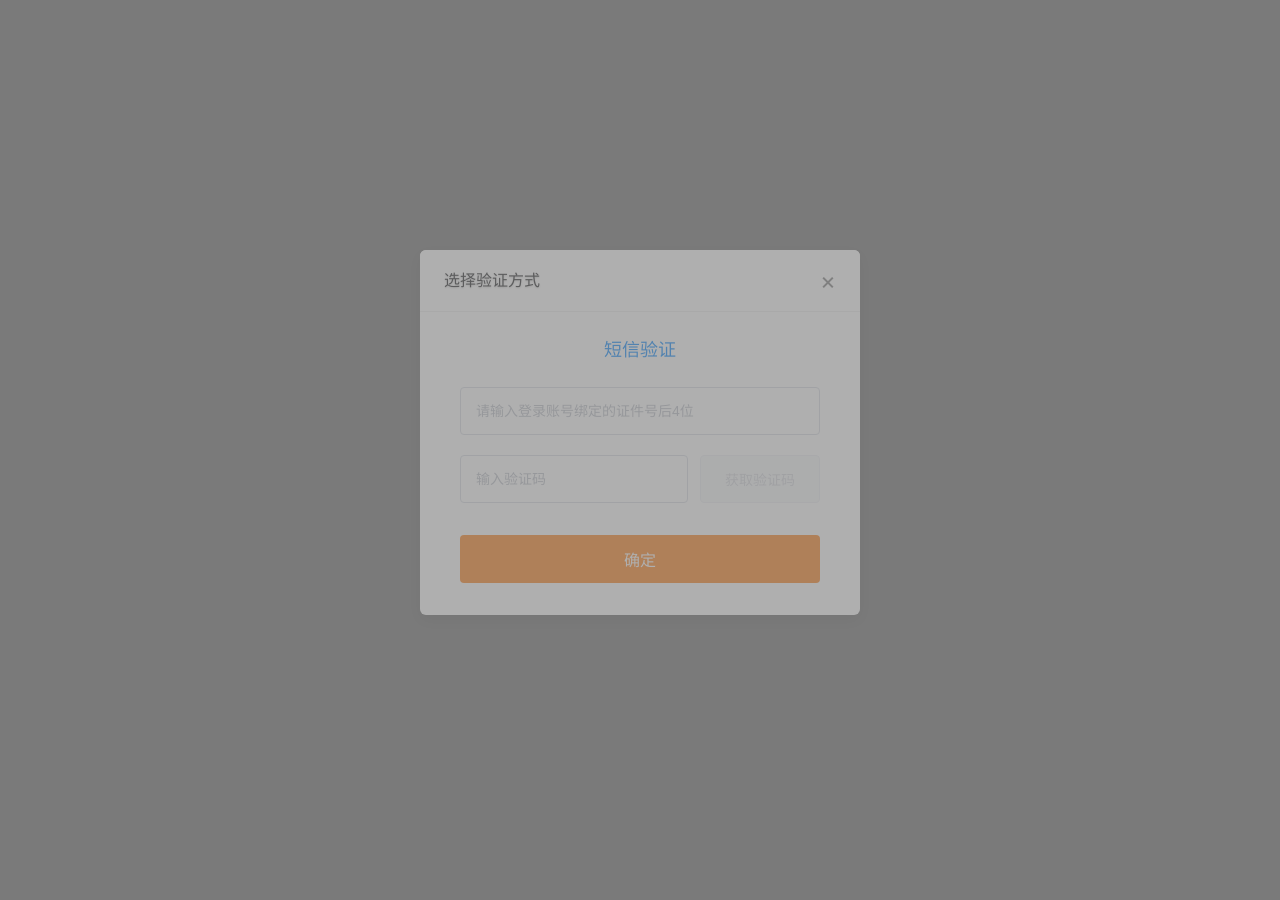
Test: SmsVerificationModal - 登录短信验证 › 应该显示倒计时按钮文本
Type "1234" into the field with placeholder "请输入登录账号绑定的证件号后4位" at {"x": 640, "y": 418}, box x1=460 y1=394 x2=820 y2=442
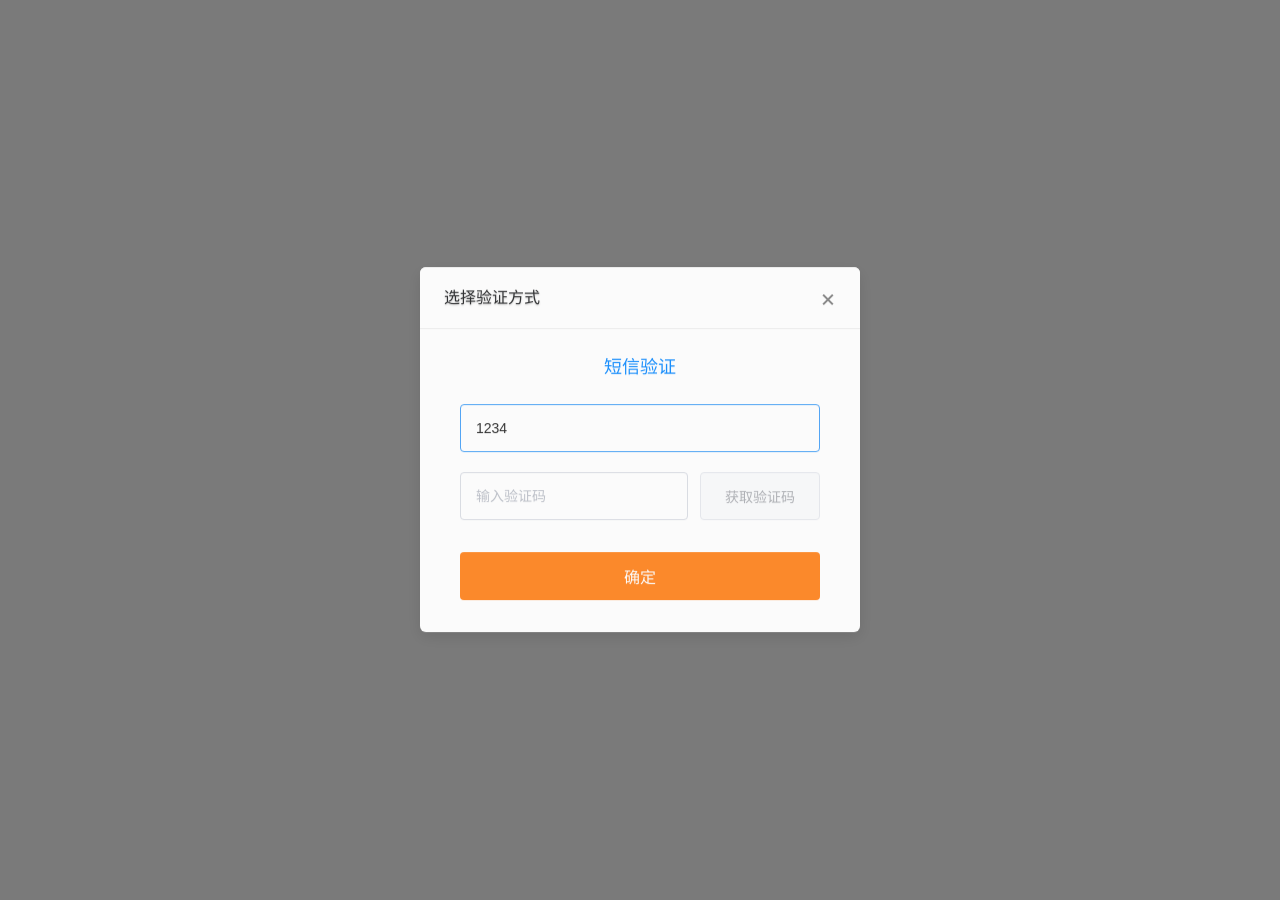
Click the button "获取验证码" at {"x": 760, "y": 496}, box x1=700 y1=472 x2=820 y2=520
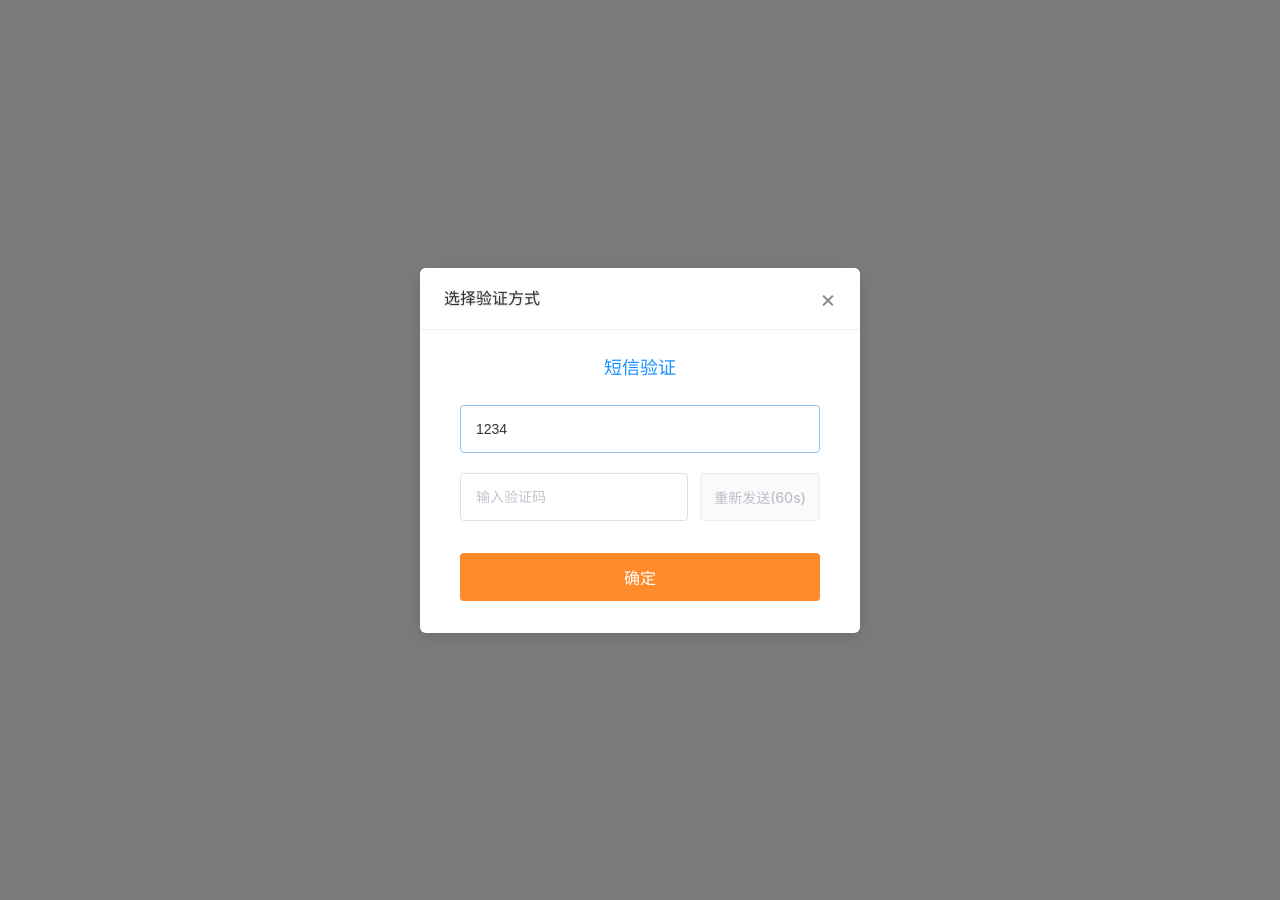
Expected: the button "重新发送(60s)" is shown, x1=700 y1=472 x2=820 y2=520
